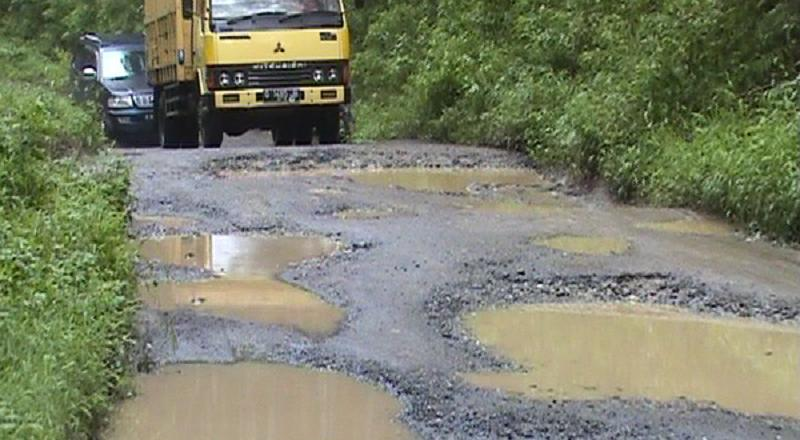Pothole: (438, 287, 800, 412), (92, 198, 357, 349), (93, 332, 459, 440), (207, 139, 631, 217), (528, 235, 670, 286), (624, 207, 757, 254)
